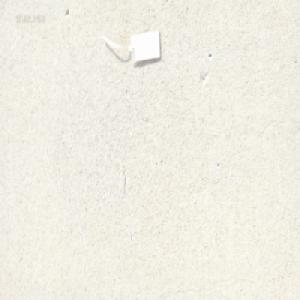LuggageTag: (99, 25, 163, 64)
